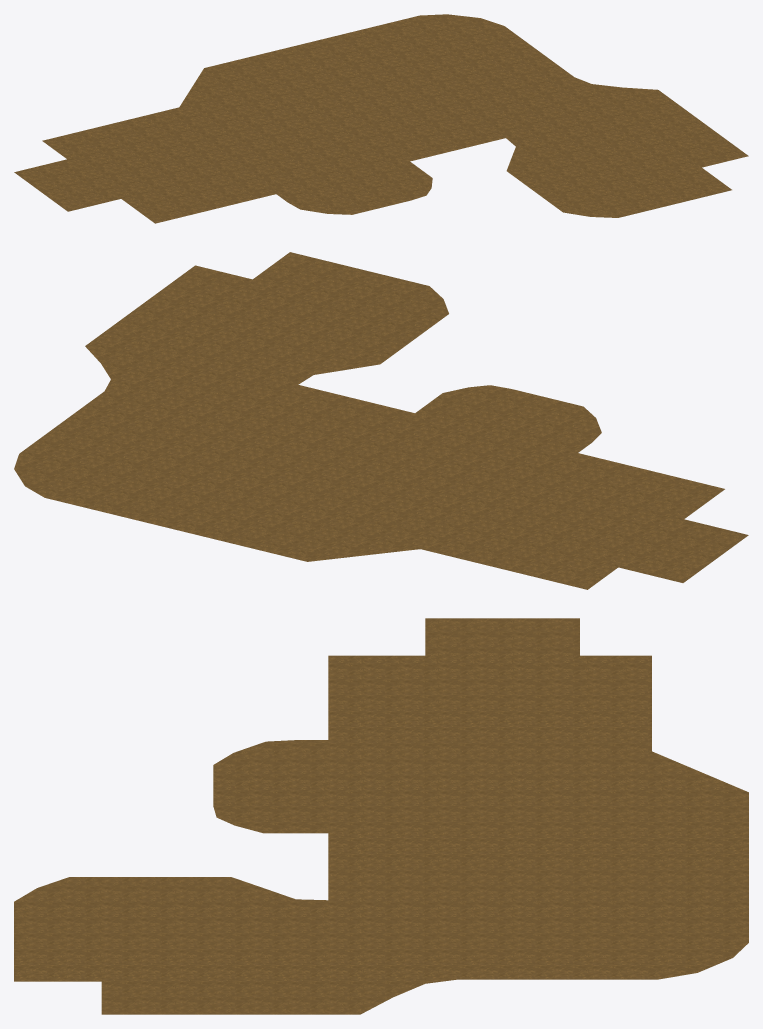
The picture shows the model from 3 angles, top to bottom: view 1: azimuth 30°, elevation 25°; view 2: azimuth 150°, elevation 25°; view 3: azimuth 270°, elevation 25°; orthographic projection. The views are drawn at different scales.
Visible parts, largest first — view 1: Plane005; view 2: Plane005; view 3: Plane005.
Part boxes in pixels (left/top/right/bottom): Plane005: left=14, top=14, right=748, bottom=223; Plane005: left=14, top=252, right=748, bottom=589; Plane005: left=14, top=618, right=748, bottom=1014.
Bounding box in the file's own units: 353 × 1.7e-14 × 277.
1 material, 1 textured.
